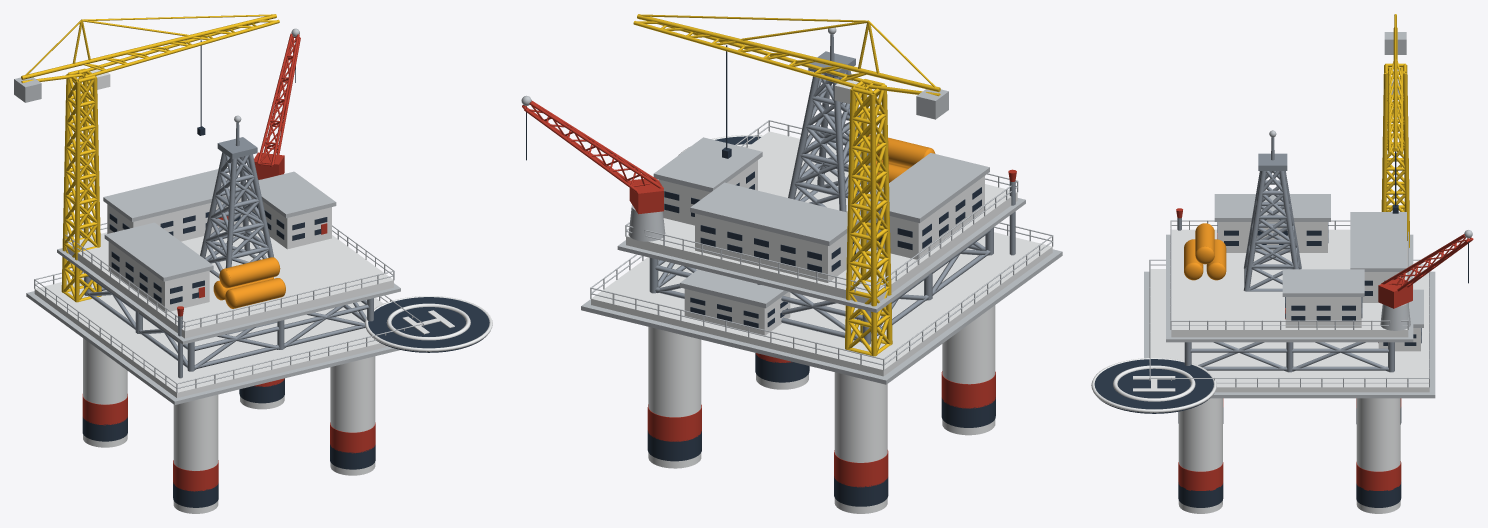
Rendered from offshore.glb.
The picture shows the model from 3 angles, left to right: view 1: azimuth 30°, elevation 25°; view 2: azimuth 150°, elevation 25°; view 3: azimuth 270°, elevation 25°; orthographic projection. The views are drawn at different scales.
Parts seen in each view (by area): view 1: lower_deck, upper_deck, leg_shaft (×3), helipad_deck, module_west_roof, module_north_roof, leg_band_dark (×4), lower_deck_edge, leg_band_red (×3), crane_mast_chord (×3), module_west_body, upper_deck_edge (+14 smaller); view 2: lower_deck, leg_shaft (×3), upper_deck, module_north_roof, module_north_body, lower_deck_edge, leg_band_dark (×4), module_west_roof, crane_mast_chord (×3), leg_band_red (×3), module_east_roof, upper_deck_edge (+13 smaller); view 3: upper_deck, lower_deck, leg_shaft (×2), helipad_deck, module_north_roof, lower_deck_edge, upper_deck_edge, module_west_roof, module_east_roof, module_east_body, leg_band_red (×2), module_west_body (+13 smaller).
Part boxes in pixels (bbox=[...]): lower_deck: bbox=[34, 277, 387, 397]; upper_deck: bbox=[65, 199, 393, 338]; leg_shaft (×3): bbox=[83, 338, 375, 513]; helipad_deck: bbox=[368, 297, 489, 352]; module_west_roof: bbox=[104, 222, 213, 281]; module_north_roof: bbox=[103, 169, 240, 221]; leg_band_dark (×4): bbox=[82, 378, 375, 507]; lower_deck_edge: bbox=[26, 291, 399, 404]; leg_band_red (×3): bbox=[82, 394, 375, 491]; crane_mast_chord (×3): bbox=[61, 74, 101, 302]; module_west_body: bbox=[108, 242, 209, 312]; upper_deck_edge: bbox=[57, 248, 400, 344]; lower_deck: bbox=[591, 232, 1052, 376]; leg_shaft (×3): bbox=[648, 305, 995, 513]; upper_deck: bbox=[626, 131, 1017, 304]; module_north_roof: bbox=[690, 182, 859, 245]; module_north_body: bbox=[695, 213, 858, 282]; lower_deck_edge: bbox=[581, 249, 1062, 384]; leg_band_dark (×4): bbox=[647, 353, 995, 506]; module_west_roof: bbox=[866, 153, 989, 223]; crane_mast_chord (×3): bbox=[845, 85, 892, 356]; leg_band_red (×3): bbox=[647, 371, 995, 487]; module_east_roof: bbox=[653, 137, 762, 192]; upper_deck_edge: bbox=[617, 198, 1025, 312]; upper_deck: bbox=[1171, 229, 1408, 337]; lower_deck: bbox=[1150, 269, 1429, 392]; leg_shaft (×2): bbox=[1178, 398, 1400, 513]; helipad_deck: bbox=[1094, 359, 1213, 413]; module_north_roof: bbox=[1350, 212, 1406, 271]; lower_deck_edge: bbox=[1144, 271, 1435, 398]; upper_deck_edge: bbox=[1166, 234, 1413, 342]; module_west_roof: bbox=[1214, 194, 1330, 221]; module_east_roof: bbox=[1282, 269, 1364, 296]; module_east_body: bbox=[1285, 297, 1361, 327]; leg_band_red (×2): bbox=[1178, 461, 1401, 490]; module_west_body: bbox=[1217, 222, 1327, 252].
Size of the model in its own units: 45.72 by 53.2 by 45.12.
